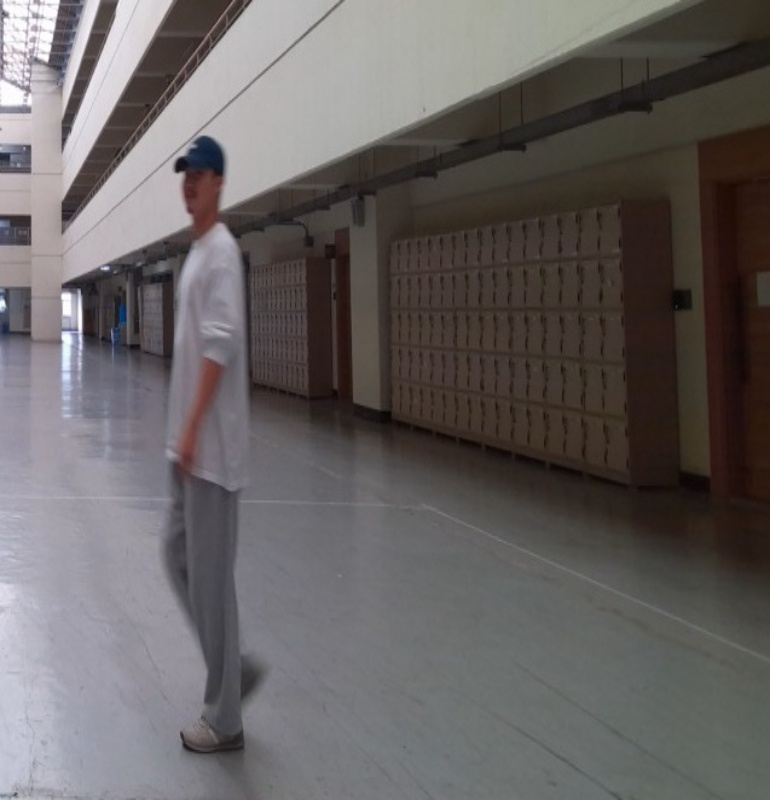person: (157, 135, 266, 753)
